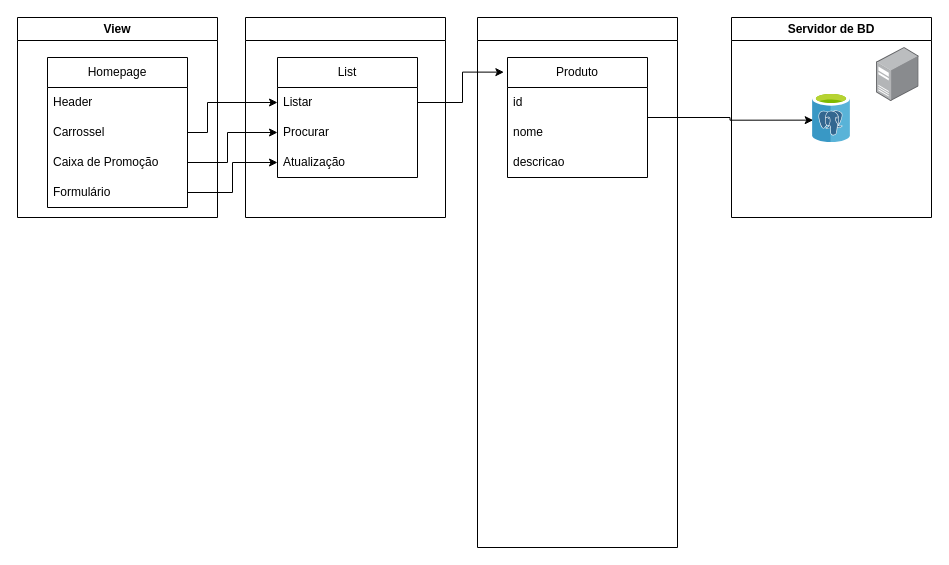
This 949x565 diagram has some shape labels left out. Here are the shapes that lost their labels. From the top down, the box of each, then its label:
(244, 16, 446, 218): Controller
(476, 16, 678, 548): Models
